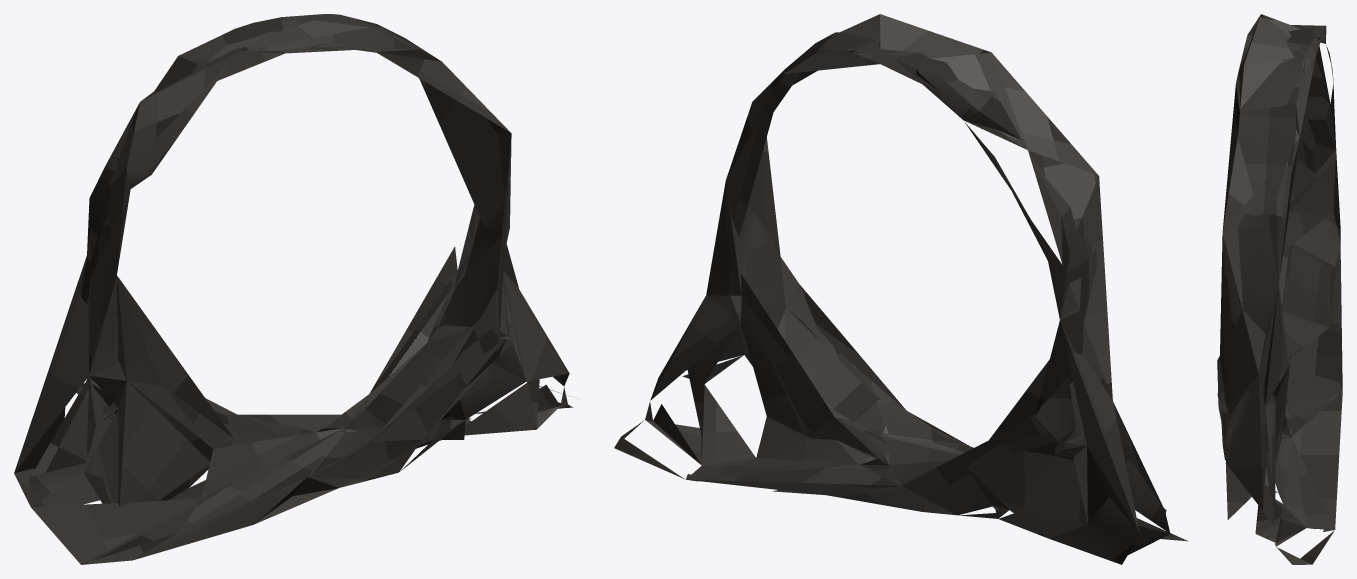
Rendered from stunt-loop-ramp.collision.glb.
The picture shows the model from 3 angles, left to right: view 1: azimuth 30°, elevation 25°; view 2: azimuth 150°, elevation 25°; view 3: azimuth 270°, elevation 25°; orthographic projection. The views are drawn at different scales.
Parts seen in each view (by area): view 1: output_unwrapped; view 2: output_unwrapped; view 3: output_unwrapped.
Boxes of the visible parts, bbox=[...] form: output_unwrapped: bbox=[14, 14, 572, 564]; output_unwrapped: bbox=[614, 14, 1187, 564]; output_unwrapped: bbox=[1217, 14, 1342, 564].
Size of the model in its own units: 1.69 by 1.37 by 0.3841.
Materials: 1 (1 with a texture image).
